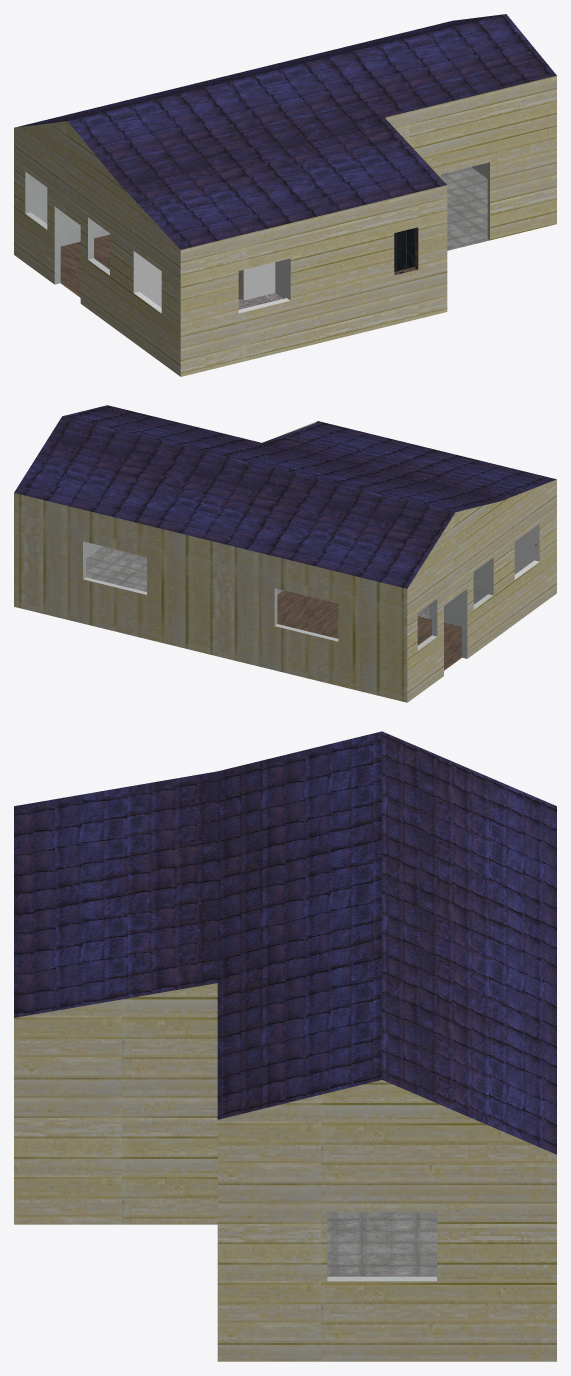
Rendered from player_house.glb.
3 renders of one model, top to bottom at view 1: azimuth 30°, elevation 25°; view 2: azimuth 150°, elevation 25°; view 3: azimuth 270°, elevation 25°, orthographic. The views are drawn at different scales.
Visible parts, largest first — view 1: ExternalWalls, Roof, Floor-col, BedroomInteriorWalls, Windows, MainInternalWalls-col, Doorways, BathroomInteriorWalls; view 2: ExternalWalls, Roof, Floor-col, Windows, MainInternalWalls-col, BedroomInteriorWalls, Doorways; view 3: Roof, ExternalWalls, Floor-col.
Part boxes in pixels (x1,y1,x2,y2): ExternalWalls: [14, 75, 556, 376]; Roof: [15, 14, 556, 249]; Floor-col: [60, 167, 489, 309]; BedroomInteriorWalls: [139, 255, 286, 307]; Windows: [25, 171, 418, 313]; MainInternalWalls-col: [31, 163, 487, 246]; Doorways: [54, 162, 489, 300]; BathroomInteriorWalls: [394, 228, 414, 271]; ExternalWalls: [14, 421, 556, 702]; Roof: [14, 405, 556, 588]; Floor-col: [86, 546, 461, 670]; Windows: [83, 524, 539, 650]; MainInternalWalls-col: [86, 542, 488, 626]; BedroomInteriorWalls: [514, 527, 534, 574]; Doorways: [462, 589, 467, 658]; Roof: [14, 731, 556, 1154]; ExternalWalls: [14, 983, 556, 1361]; Floor-col: [327, 1212, 436, 1276].
Size of the model in its own units: 43.37 by 16.35 by 28.56.
10 materials, 10 textured.
